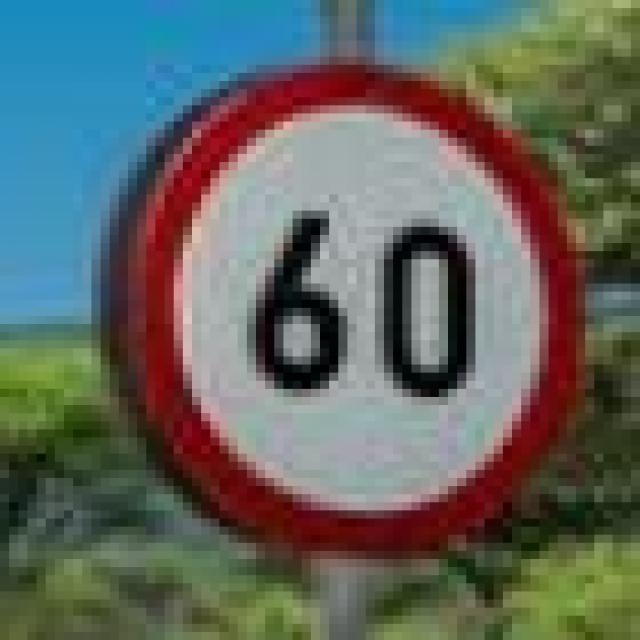traffic_sign: (101, 57, 576, 559)
